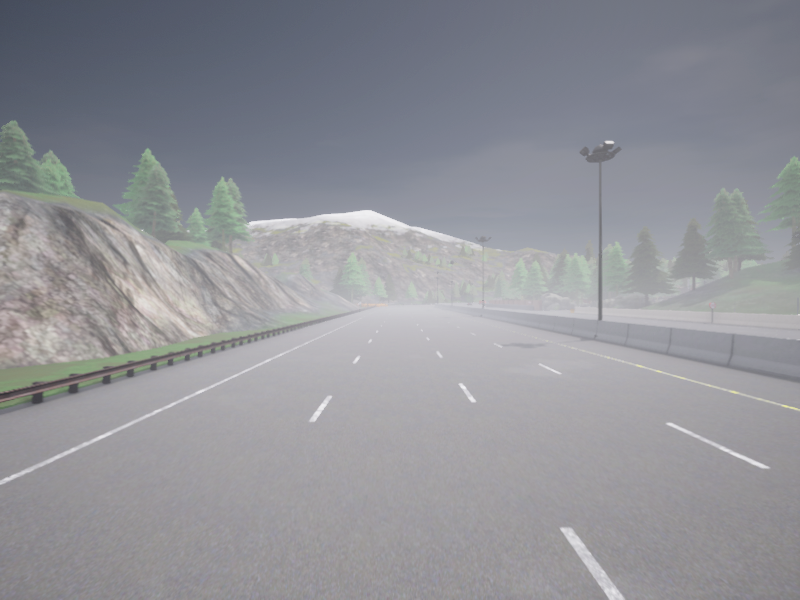vehicle: (479, 300, 486, 304), (467, 302, 472, 305)
